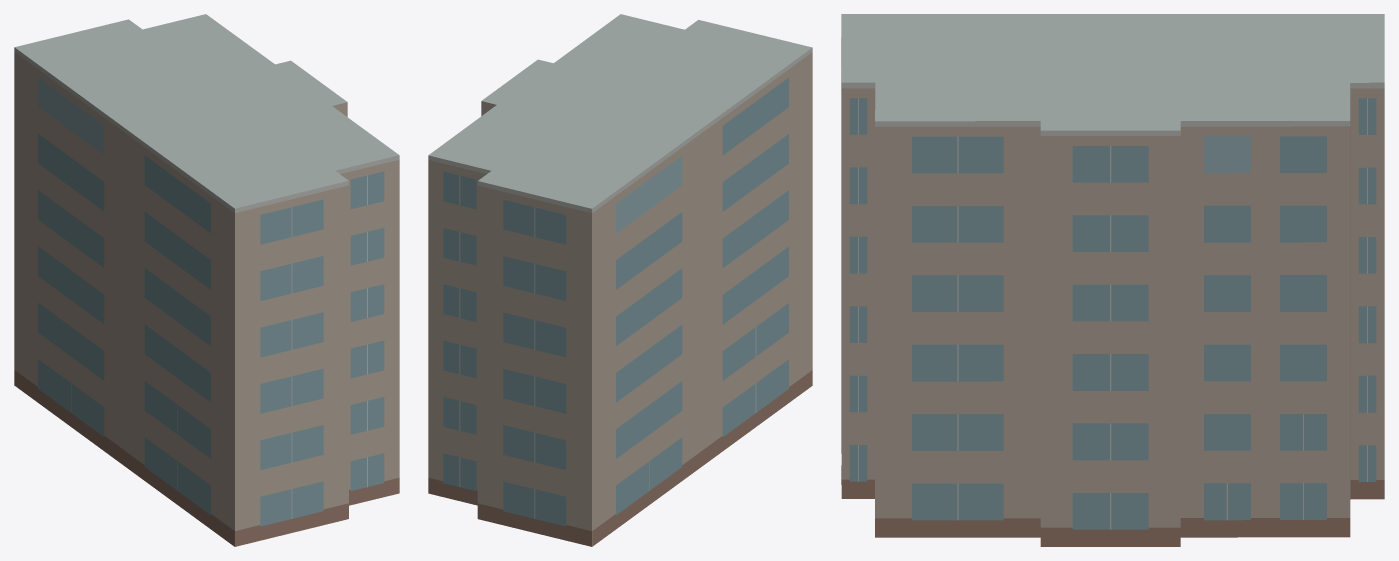
Rendered from survey-upis-32550518.glb.
3 views of the same model, side by side, from view 1: azimuth 30°, elevation 25°; view 2: azimuth 150°, elevation 25°; view 3: azimuth 270°, elevation 25° (orthographic). The views are drawn at different scales.
Visible parts, largest first — view 1: survey-upis-32550518.tmp; view 2: survey-upis-32550518.tmp; view 3: survey-upis-32550518.tmp.
Part boxes in pixels (x1,y1,x2,y2): survey-upis-32550518.tmp: (14, 14, 399, 546); survey-upis-32550518.tmp: (428, 14, 812, 546); survey-upis-32550518.tmp: (841, 14, 1384, 546).
Bounding box in the file's own units: 10.99 × 18.3 × 21.65.
